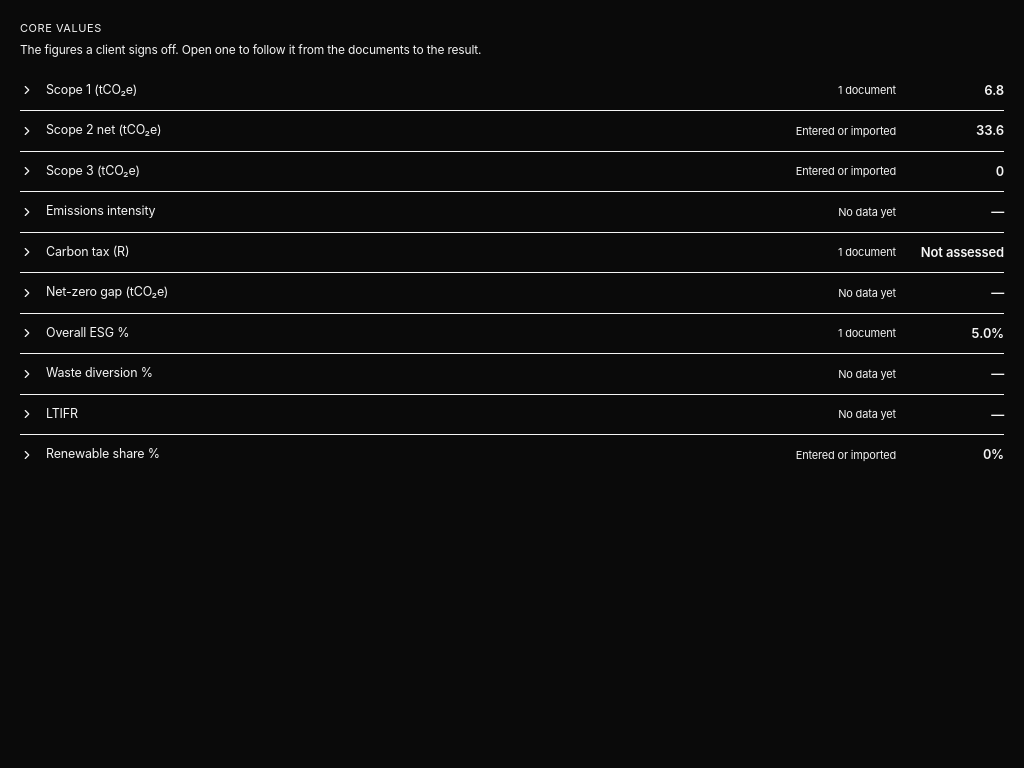
Test: EsgCoreValuesPanel › opens a value onto its chain: documents, inputs, rule, result
Click the button with test id "esg-core-scope1": [92, 89] box top-left (20, 70), bottom-right (1004, 110)
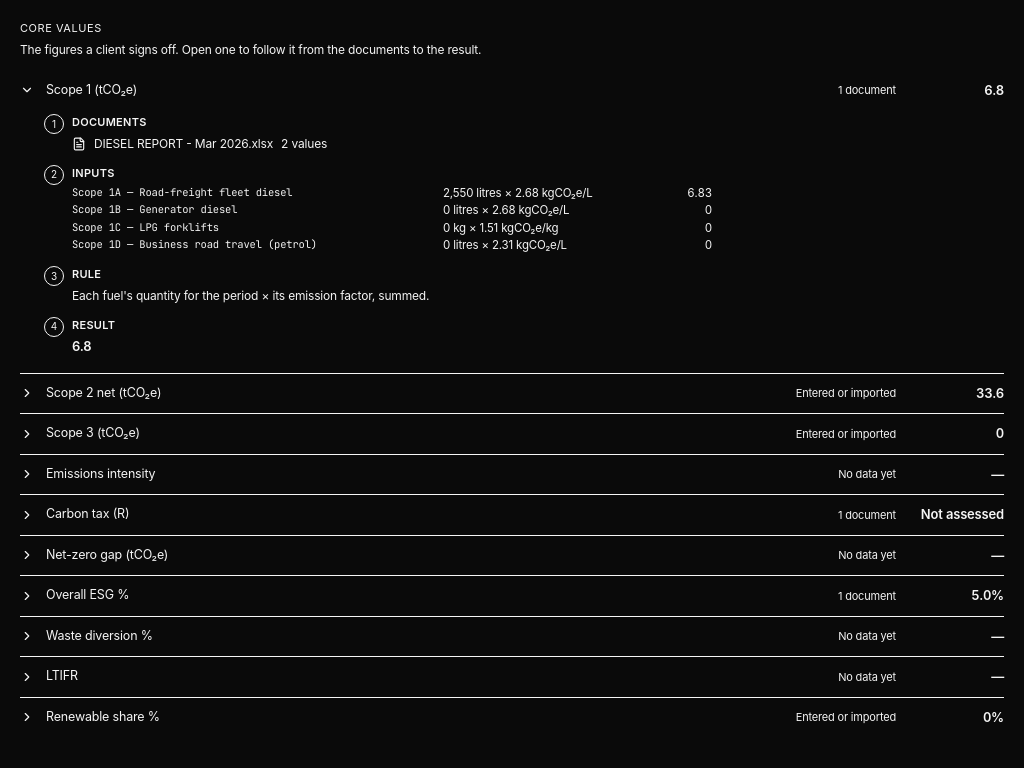
Expected: the button with test id "esg-core-scope1" is expanded, top-left (20, 70), bottom-right (1004, 110)
Expected: the list with test id "esg-core-chain-scope1" shows "DIESEL REPORT - Mar 2026.xlsx", top-left (94, 136), bottom-right (273, 150)
Expected: the list with test id "esg-core-chain-scope1" shows "2 values", top-left (44, 114), bottom-right (712, 354)
